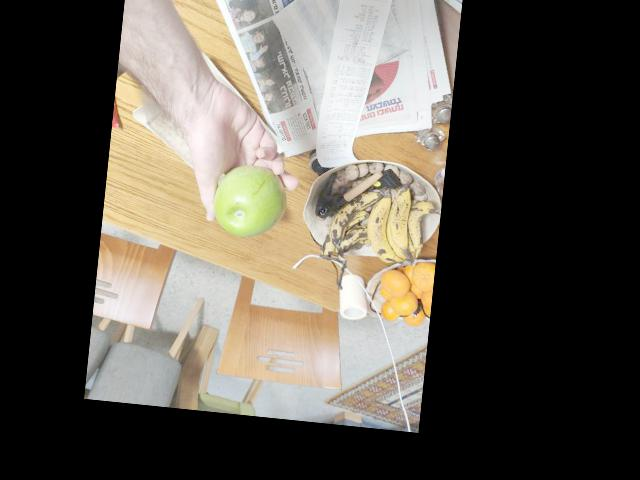apple: (207, 164, 287, 241)
